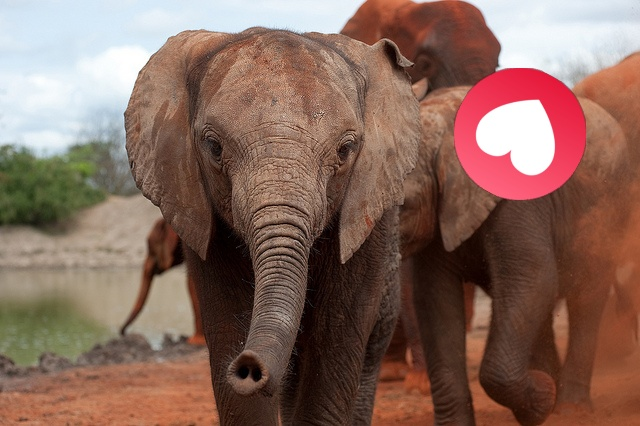love: (454, 68, 586, 200)
